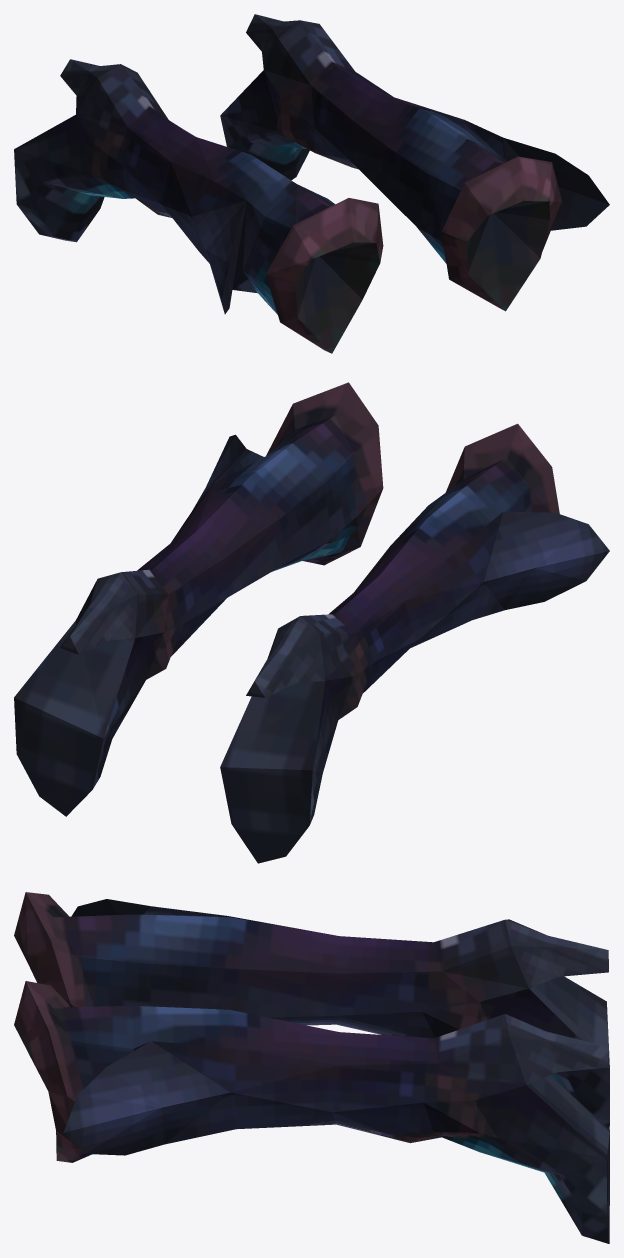
The model's file is archer_shoe_female_98530.obj.
3 views of the same model, one above another, from view 1: azimuth 30°, elevation 25°; view 2: azimuth 150°, elevation 25°; view 3: azimuth 270°, elevation 25° (orthographic). The views are drawn at different scales.
Parts seen in each view (by area): view 1: archer_shoe_female_98530; view 2: archer_shoe_female_98530; view 3: archer_shoe_female_98530.
Boxes of the visible parts, box(x1,y1,x2,y2) form: archer_shoe_female_98530: box(14, 14, 609, 353); archer_shoe_female_98530: box(14, 382, 609, 863); archer_shoe_female_98530: box(14, 892, 609, 1243).
Size of the model in its own units: 22.69 by 13.34 by 28.02.
Materials: 1 (1 with a texture image).
